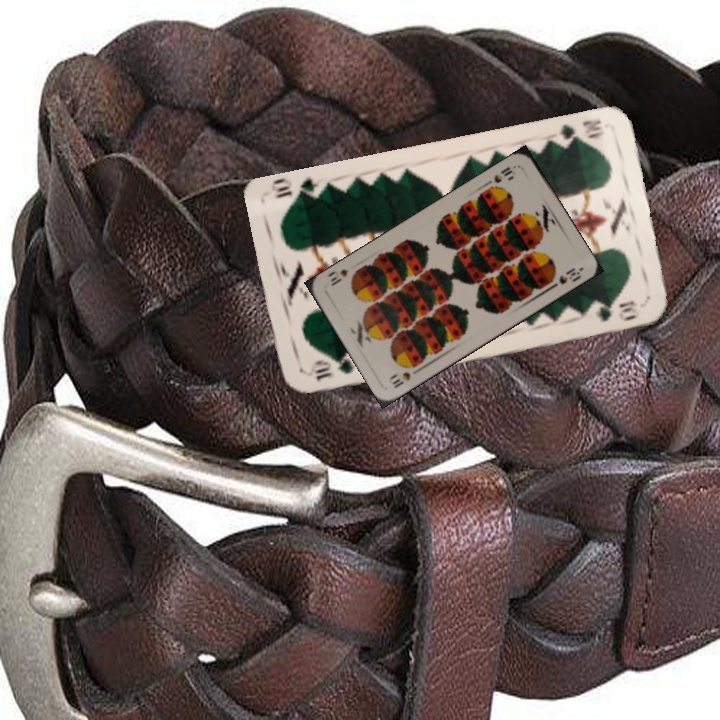G10: (552, 115, 607, 148), (302, 354, 357, 383)
S10: (385, 364, 423, 391), (490, 162, 515, 186)
